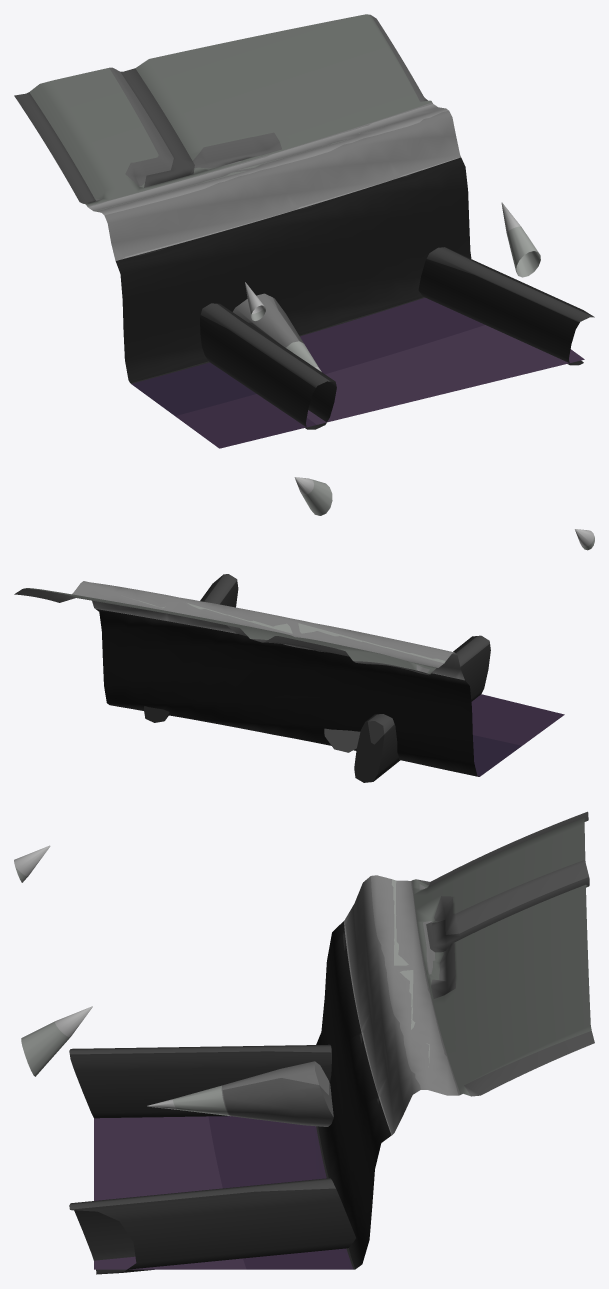
File: coral_citadel_125.glb
The picture shows the model from 3 angles, top to bottom: view 1: azimuth 30°, elevation 25°; view 2: azimuth 150°, elevation 25°; view 3: azimuth 270°, elevation 25°; orthographic projection. The views are drawn at different scales.
Parts seen in each view (by area): view 1: coral_citadel_125; view 2: coral_citadel_125; view 3: coral_citadel_125.
Boxes of the visible parts, x1,y1,x2,y2 form: coral_citadel_125: (14, 14, 594, 448); coral_citadel_125: (14, 477, 594, 782); coral_citadel_125: (14, 811, 594, 1274).
Bounding box in the file's own units: 24 × 13.5 × 27.47.
